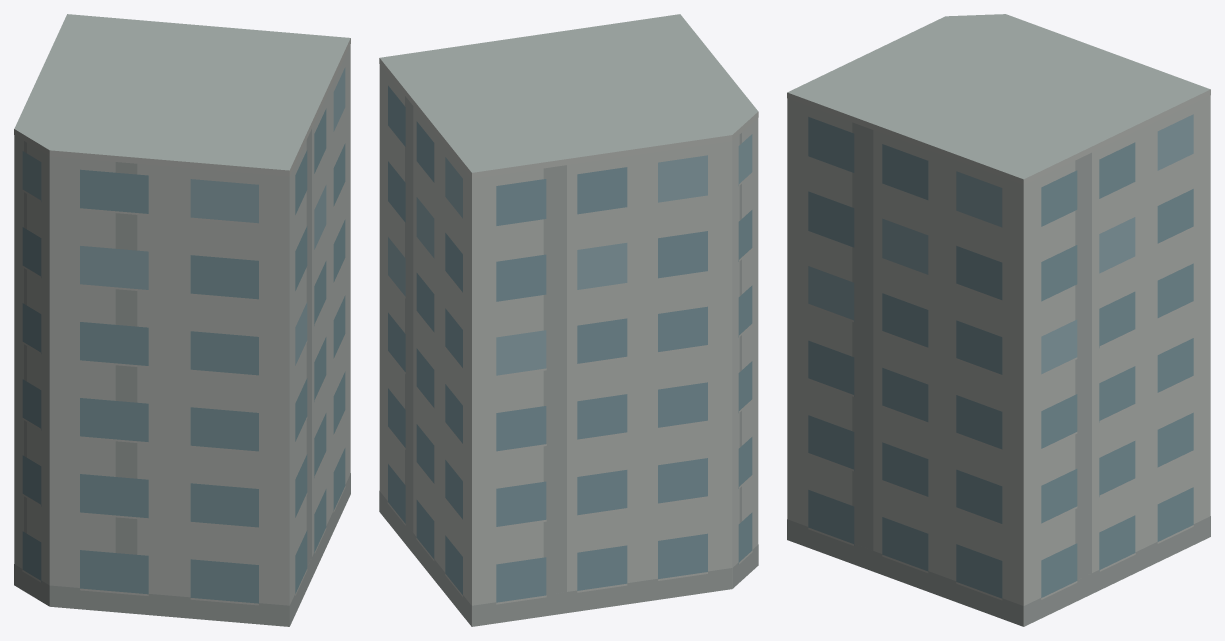
File: survey-upis-32945709.glb
The picture shows the model from 3 angles, left to right: view 1: azimuth 30°, elevation 25°; view 2: azimuth 150°, elevation 25°; view 3: azimuth 270°, elevation 25°; orthographic projection.
Parts seen in each view (by area): view 1: survey-upis-32945709.tmp; view 2: survey-upis-32945709.tmp; view 3: survey-upis-32945709.tmp.
Part boxes in pixels (x1=…): survey-upis-32945709.tmp: x1=14, y1=14, x2=350, y2=626; survey-upis-32945709.tmp: x1=379, y1=14, x2=758, y2=626; survey-upis-32945709.tmp: x1=787, y1=14, x2=1210, y2=626.
Size of the model in its own units: 14.51 by 18.3 by 15.71.
